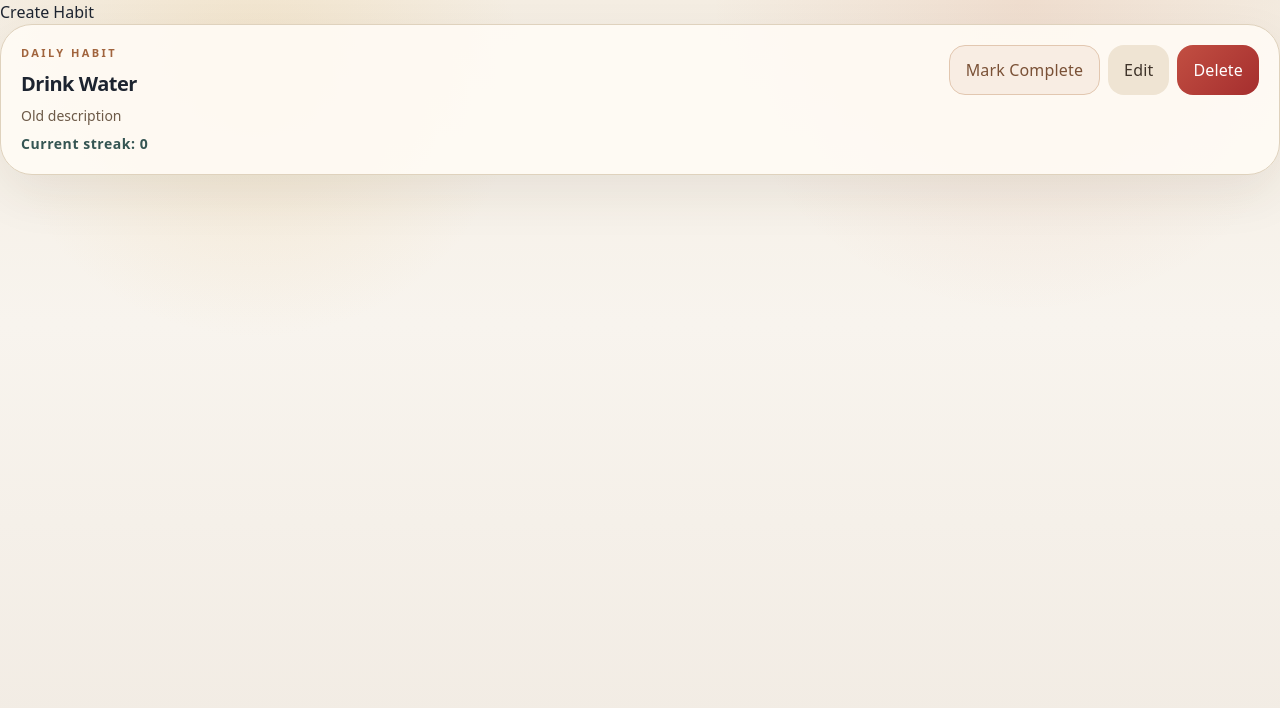
Test: habit form › edits an existing habit and preserves immutable fields
Click the button with test id "habit-edit-drink-water": (1139, 70) [1108,45,1169,95]
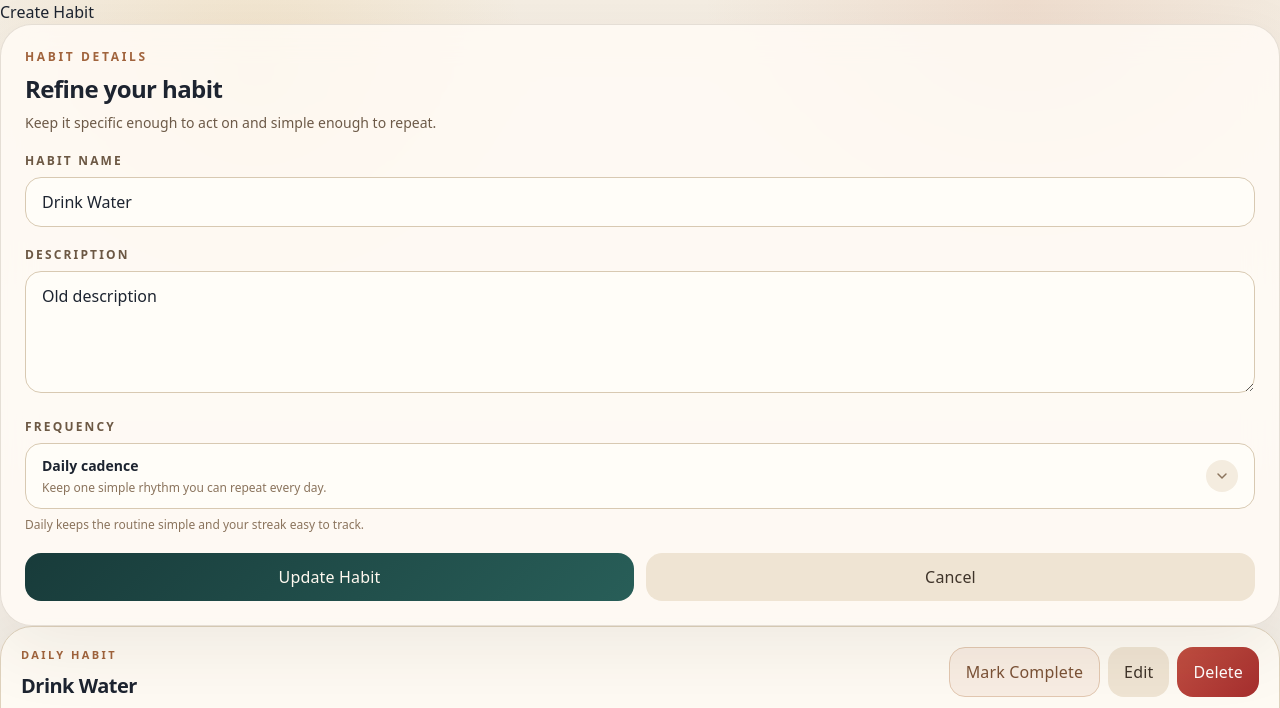
Replace the text in the field with test id "habit-name-input" with "Read Books": (640, 202) [25,177,1255,227]
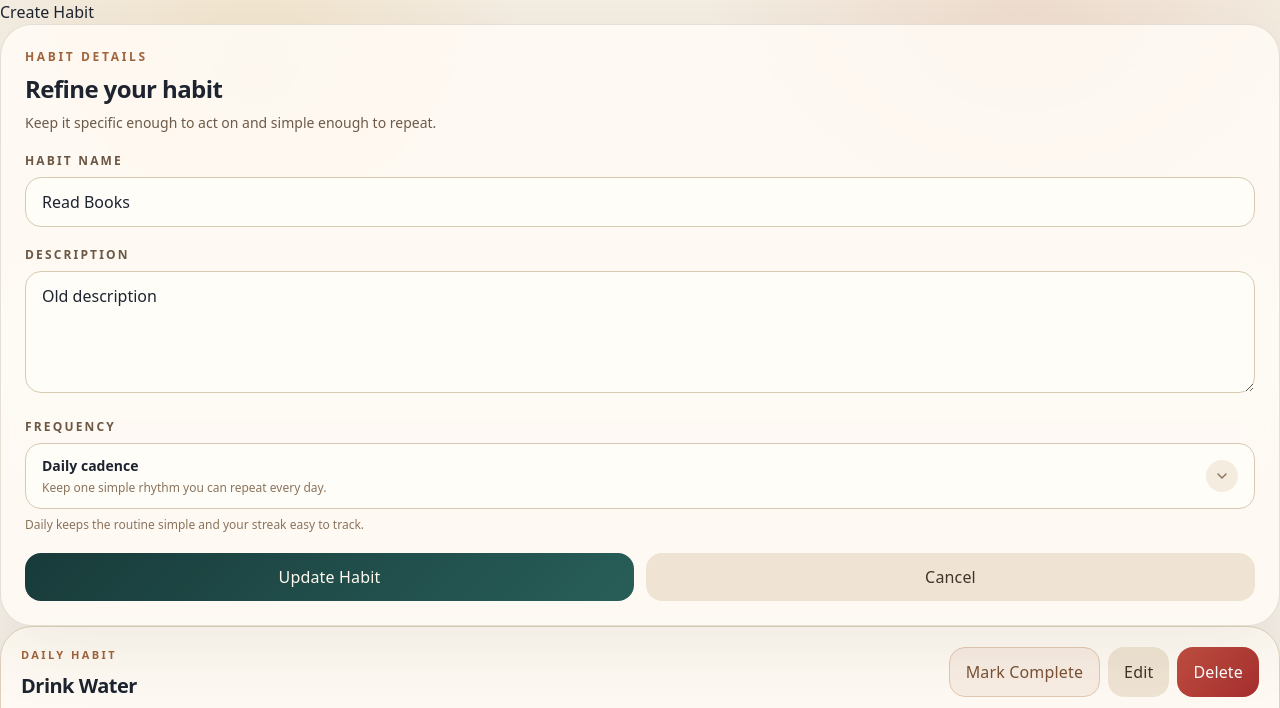
Replace the text in the text box with test id "habit-description-input" with "Read 10 pages": (640, 332) [25,271,1255,393]
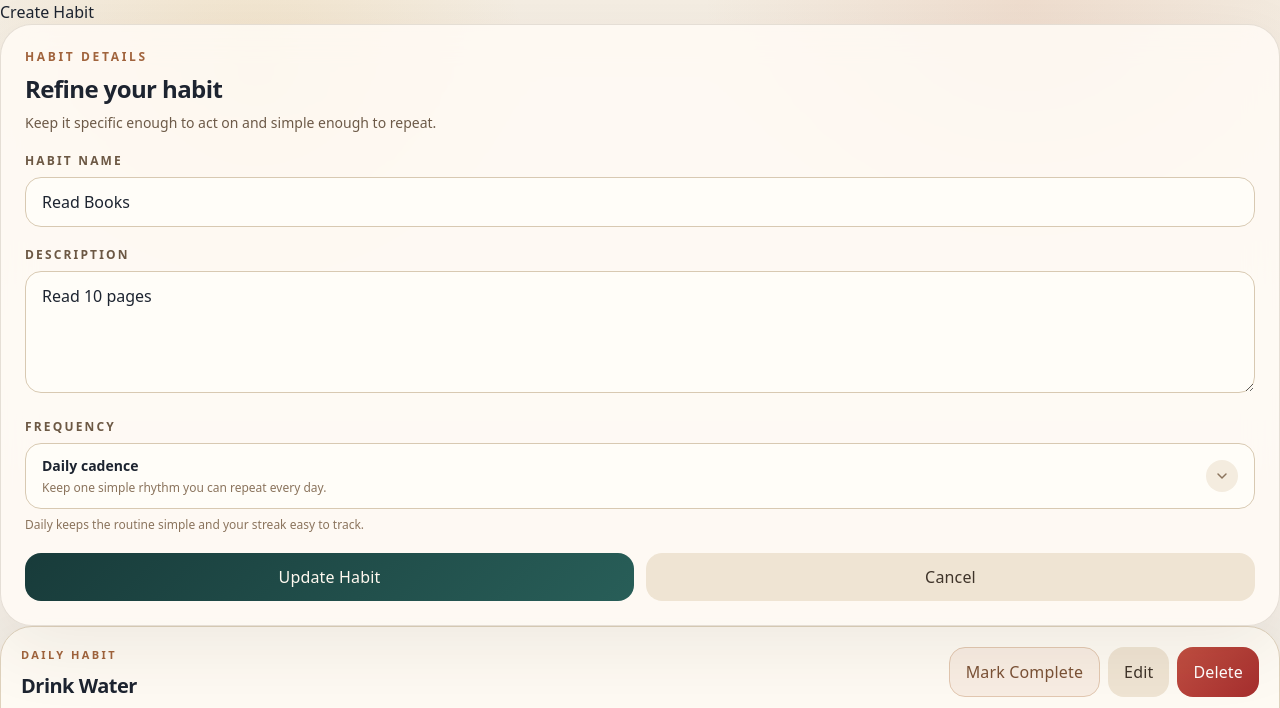
Click the button with test id "habit-save-button": (330, 577) [25,553,634,601]
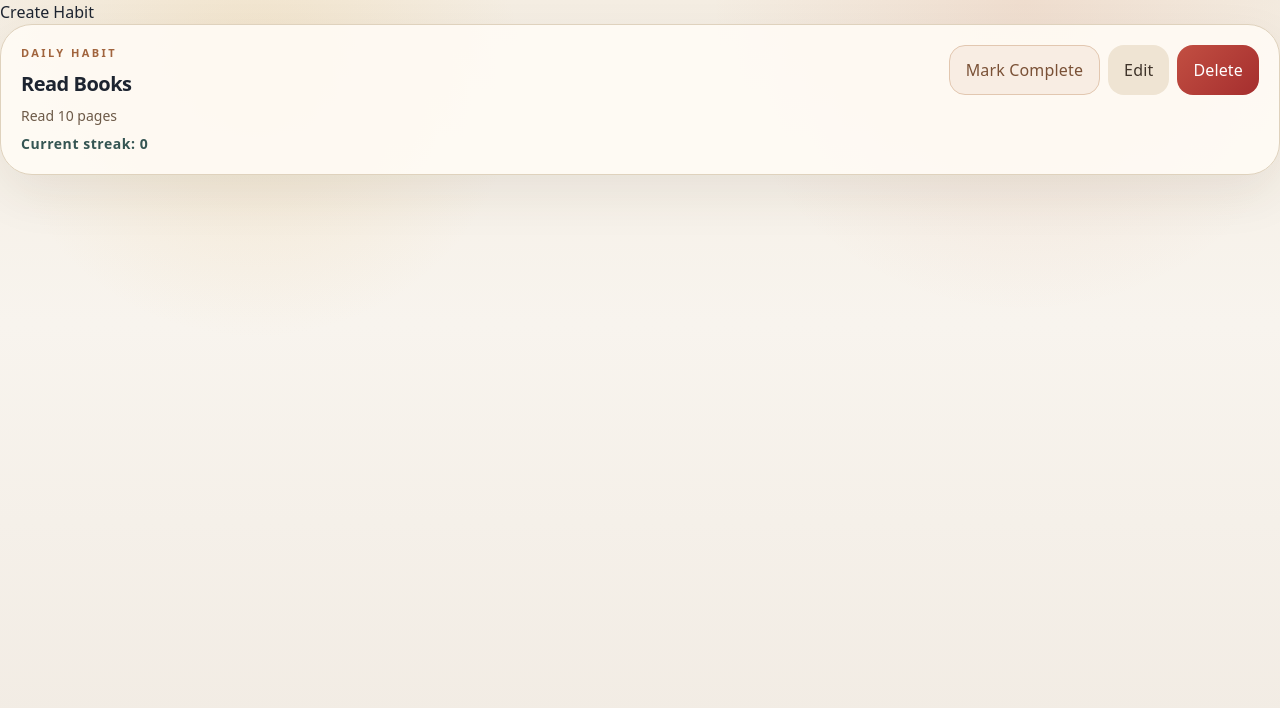
Now the element with test id "habit-card-read-books" is shown, box [0,24,1279,174]
